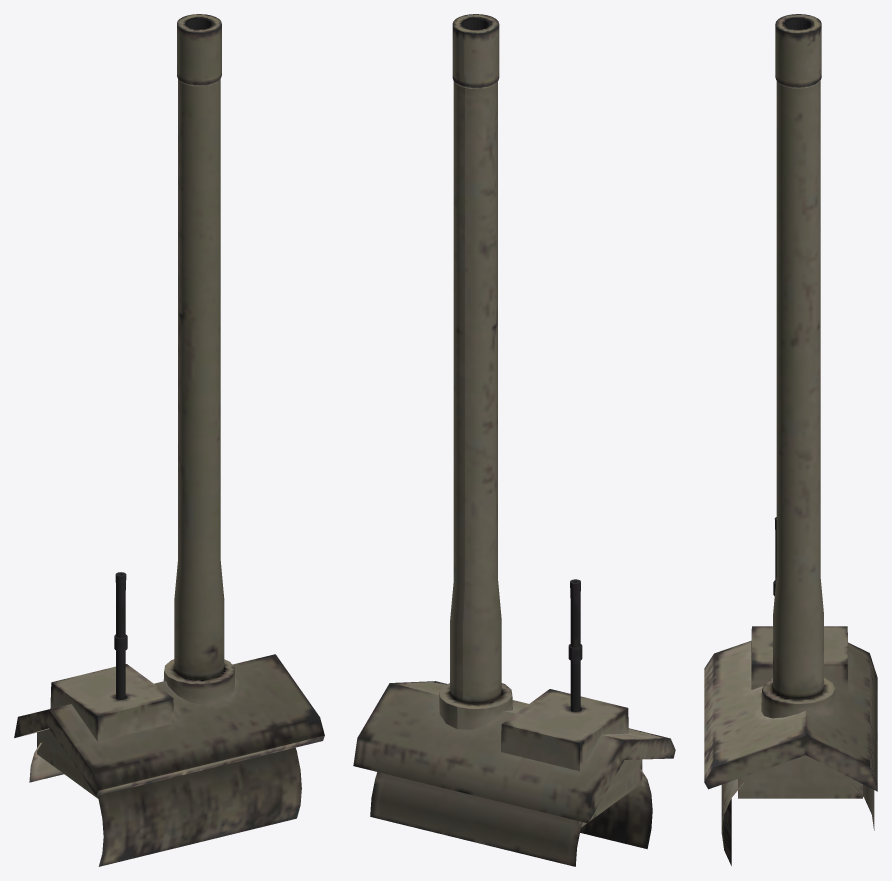
Rendered from Gun_01.glb.
3 views of the same model, side by side, from view 1: azimuth 30°, elevation 25°; view 2: azimuth 150°, elevation 25°; view 3: azimuth 270°, elevation 25° (orthographic). The views are drawn at different scales.
Visible parts, largest first — view 1: set_0_group_0; view 2: set_0_group_0; view 3: set_0_group_0.
Boxes of the visible parts, x1,y1,x2,y2 form: set_0_group_0: (14,14,324,866); set_0_group_0: (353,14,675,866); set_0_group_0: (704,14,877,865).
Bounding box in the file's own units: 0.5817 × 1.93 × 0.3746.
1 material, 1 textured.
